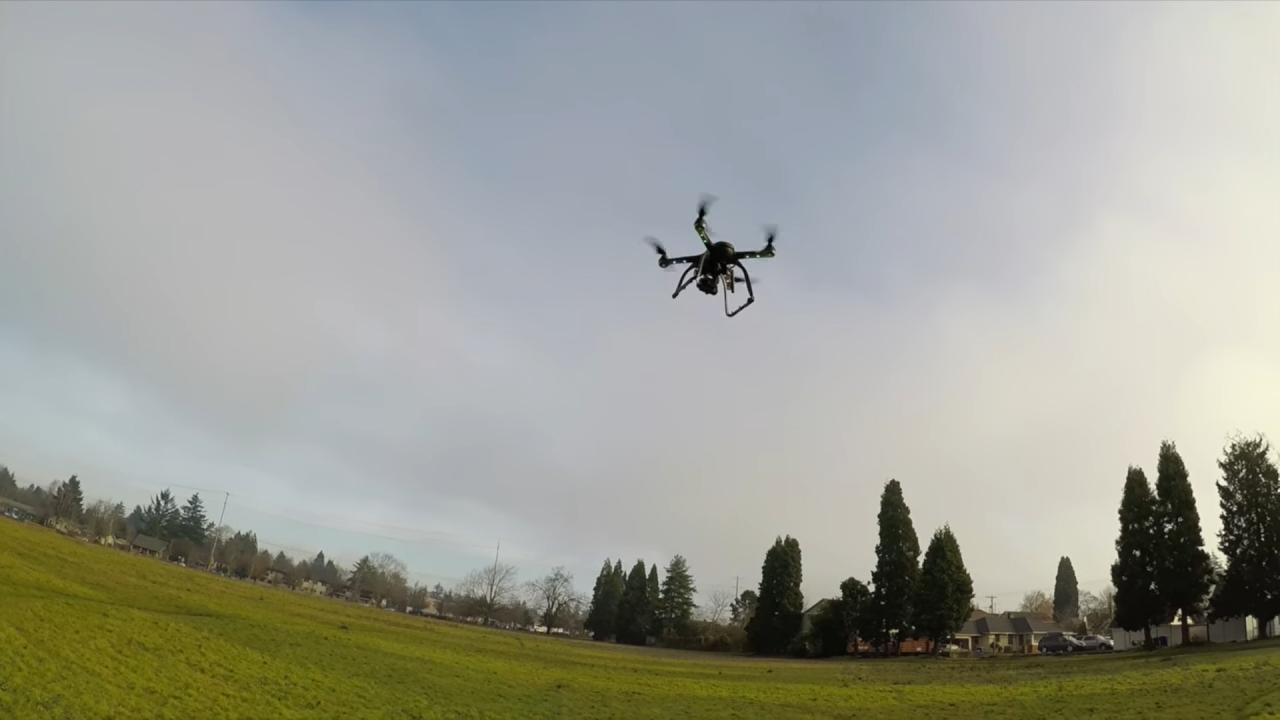Drone: (634, 185, 793, 326)
